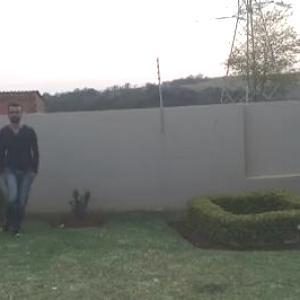follow: (1, 104, 51, 226)
